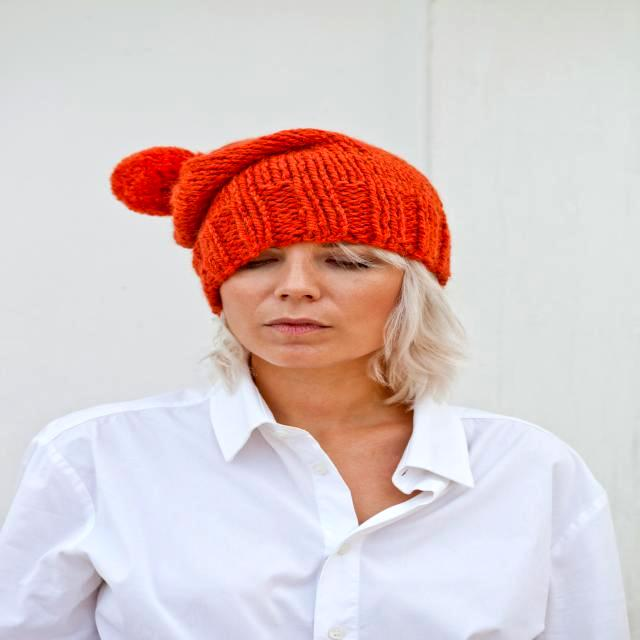no_hard_hat: (111, 128, 450, 314)
person: (2, 129, 629, 640)
